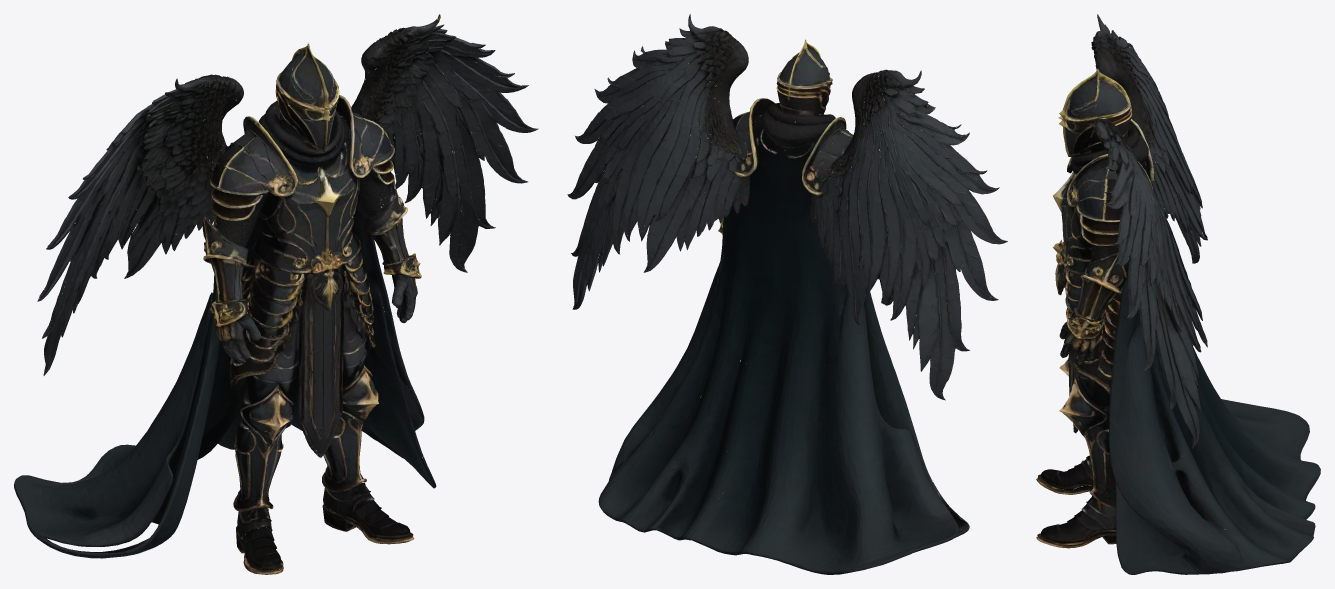
The model's file is legacy_knight_t3.glb.
3 renders of one model, left to right at view 1: azimuth 30°, elevation 25°; view 2: azimuth 150°, elevation 25°; view 3: azimuth 270°, elevation 25°, orthographic. The views are drawn at different scales.
Visible parts, largest first — view 1: tmp_cjtqadq.obj; view 2: tmp_cjtqadq.obj; view 3: tmp_cjtqadq.obj.
Boxes of the visible parts, <box> form: tmp_cjtqadq.obj: <box>14,14,538,574</box>; tmp_cjtqadq.obj: <box>567,14,1007,574</box>; tmp_cjtqadq.obj: <box>1036,14,1320,574</box>.
Bounding box in the file's own units: 1.49 × 1.45 × 0.8298.
1 material, 1 textured.
